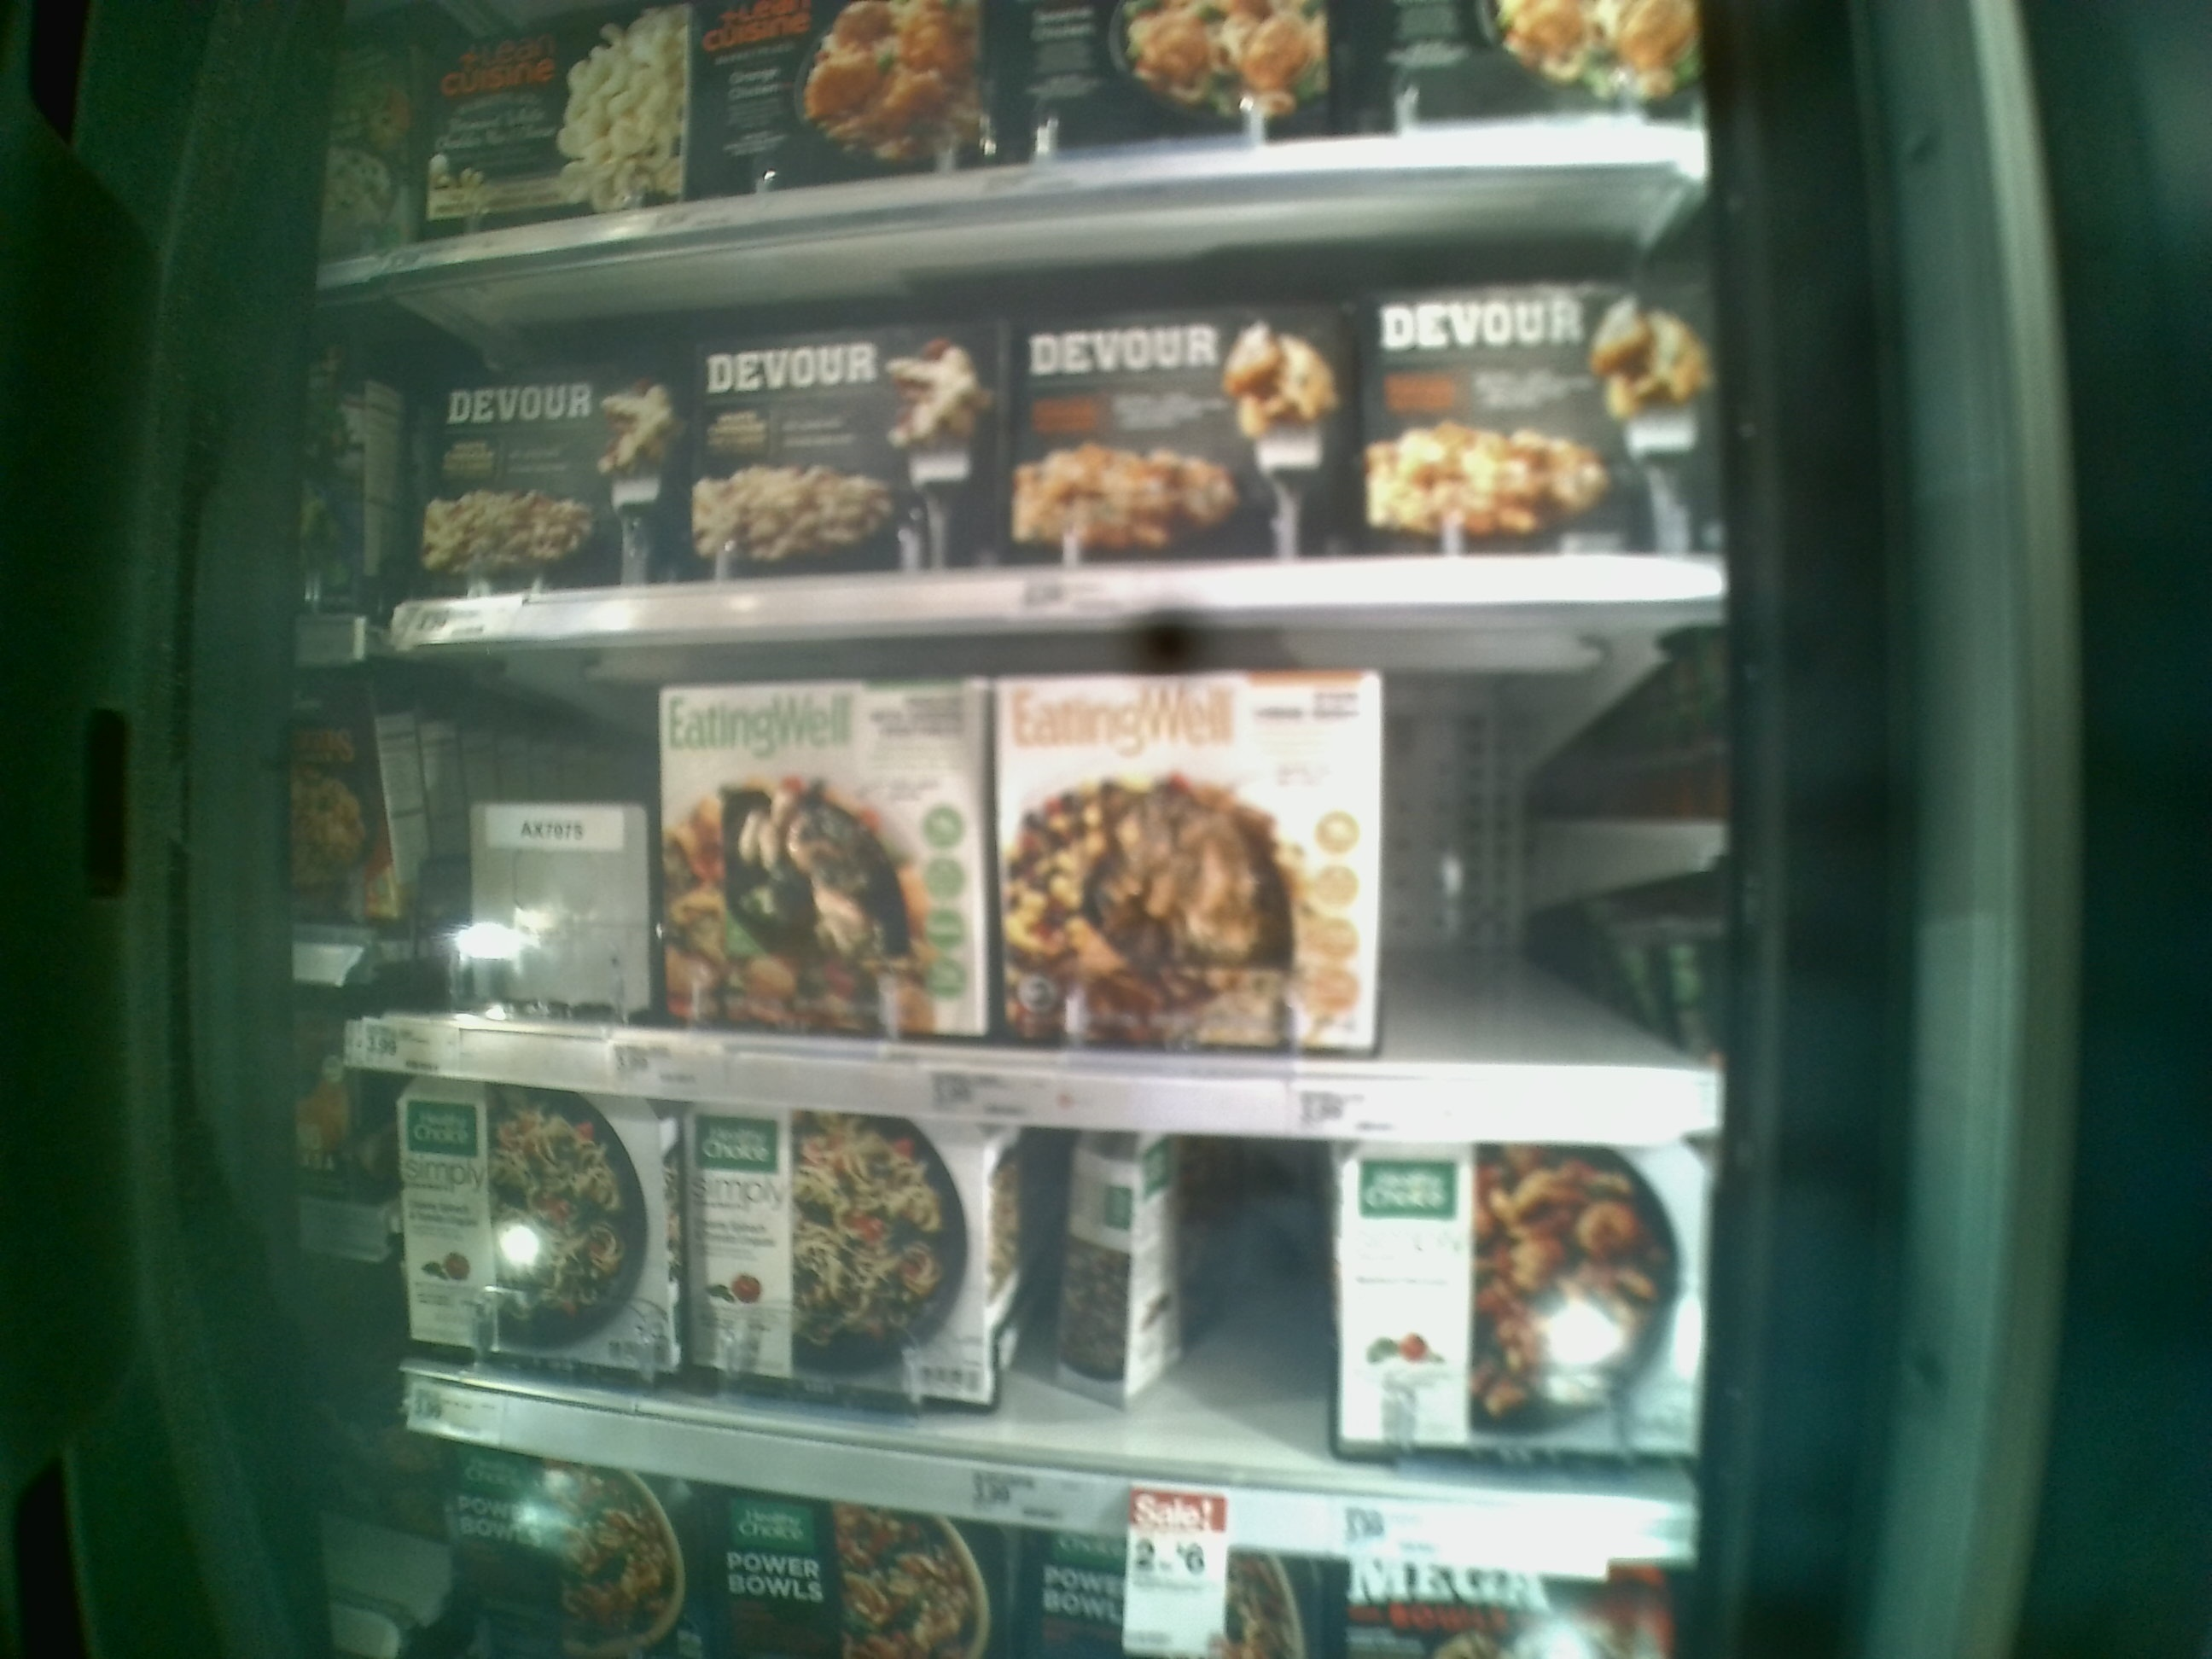shelf: (359, 608, 1730, 1148), (334, 166, 1735, 652), (394, 1075, 1695, 1467)
